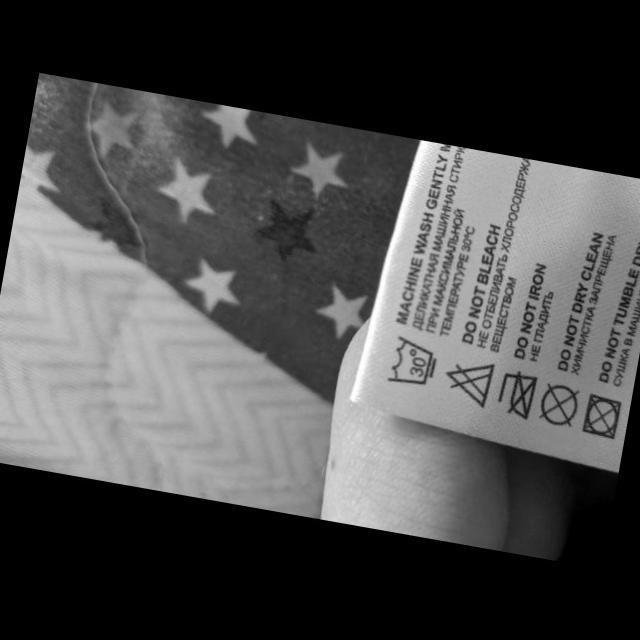30C: (380, 328, 445, 393)
DN_bleach: (438, 348, 498, 412)
DN_dry_clean: (534, 378, 584, 432)
DN_iron: (490, 362, 542, 426)
DN_tumble_dry: (576, 391, 625, 441)
